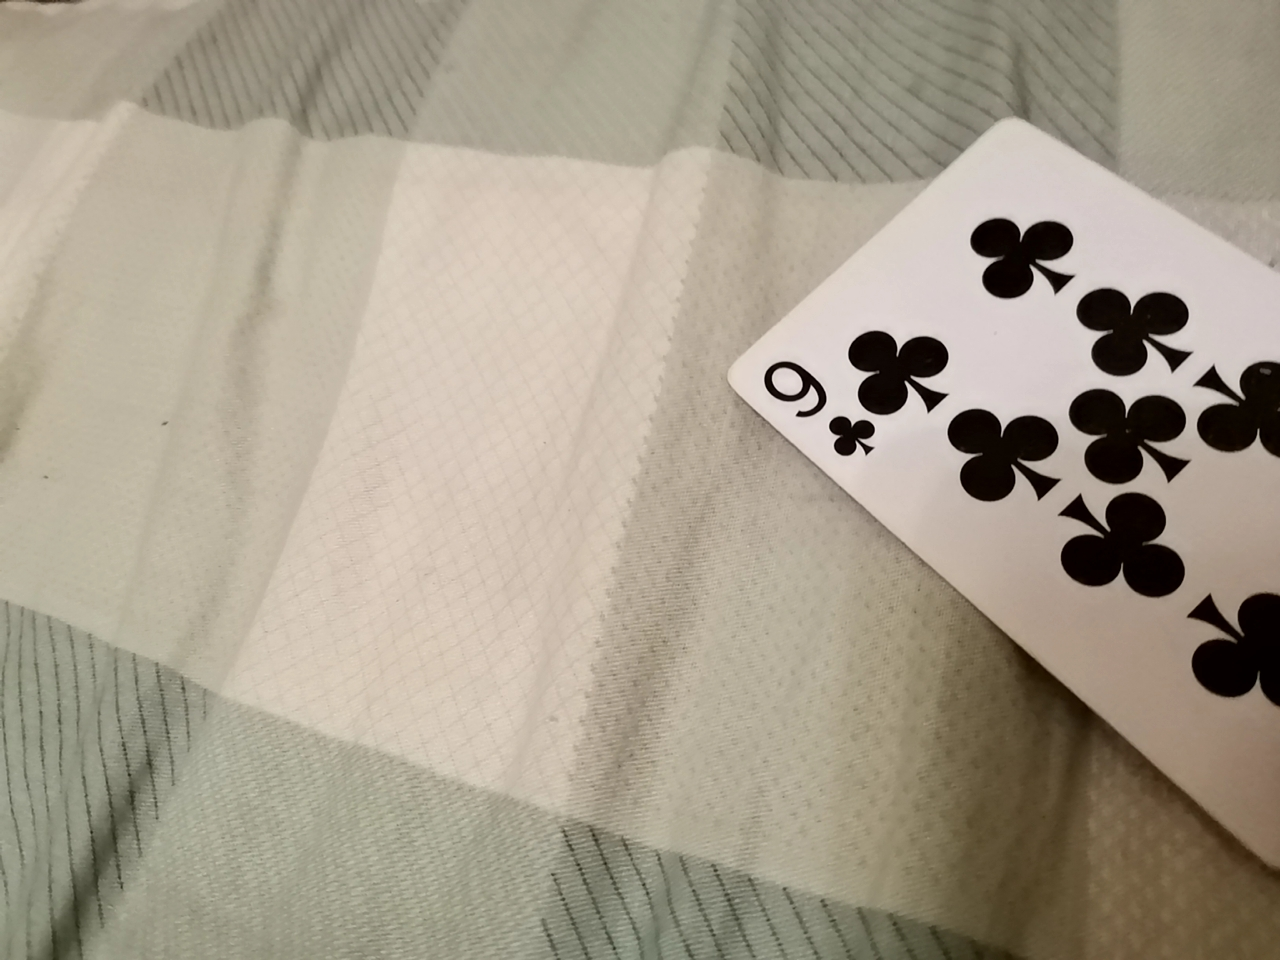mh 9: (703, 116, 1274, 904)
